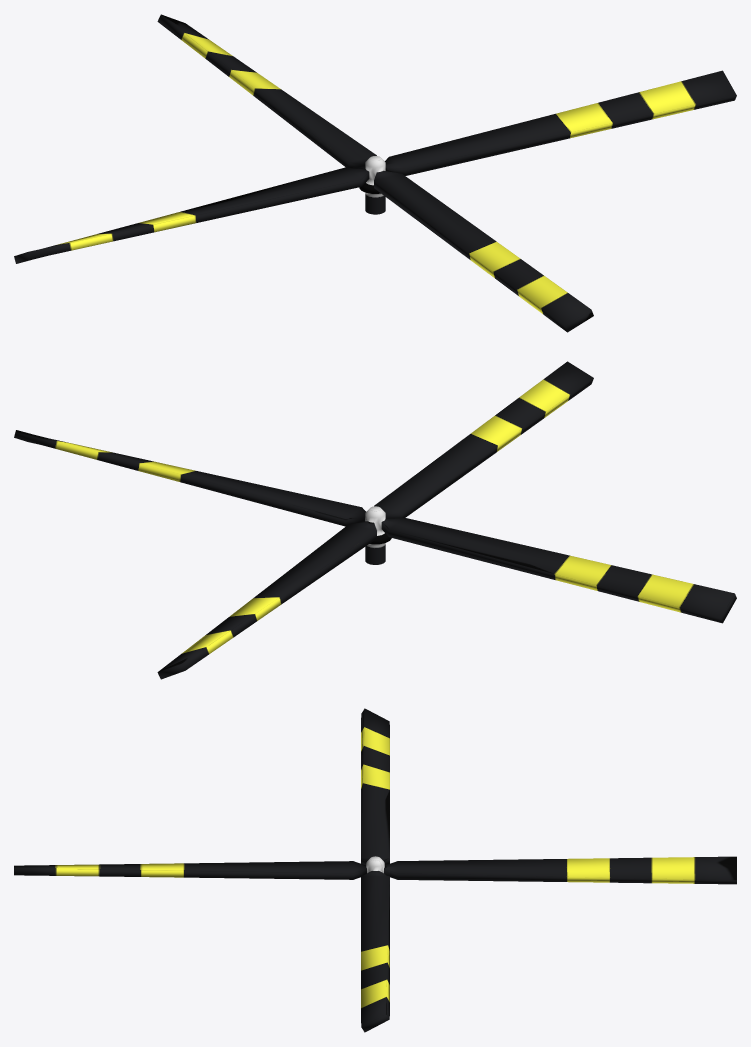
The model's file is Helicopter Rotor Main.obj.
3 renders of one model, top to bottom at view 1: azimuth 30°, elevation 25°; view 2: azimuth 150°, elevation 25°; view 3: azimuth 270°, elevation 25°, orthographic. The views are drawn at different scales.
Parts seen in each view (by area): view 1: Rotor_Main_Cube.006; view 2: Rotor_Main_Cube.006; view 3: Rotor_Main_Cube.006.
Boxes of the visible parts, <box> form: Rotor_Main_Cube.006: <box>14,14,736,332</box>; Rotor_Main_Cube.006: <box>14,361,736,679</box>; Rotor_Main_Cube.006: <box>14,708,736,1032</box>.
Size of the model in its own units: 10 by 0.7017 by 10.
Materials: 1 (1 with a texture image).
